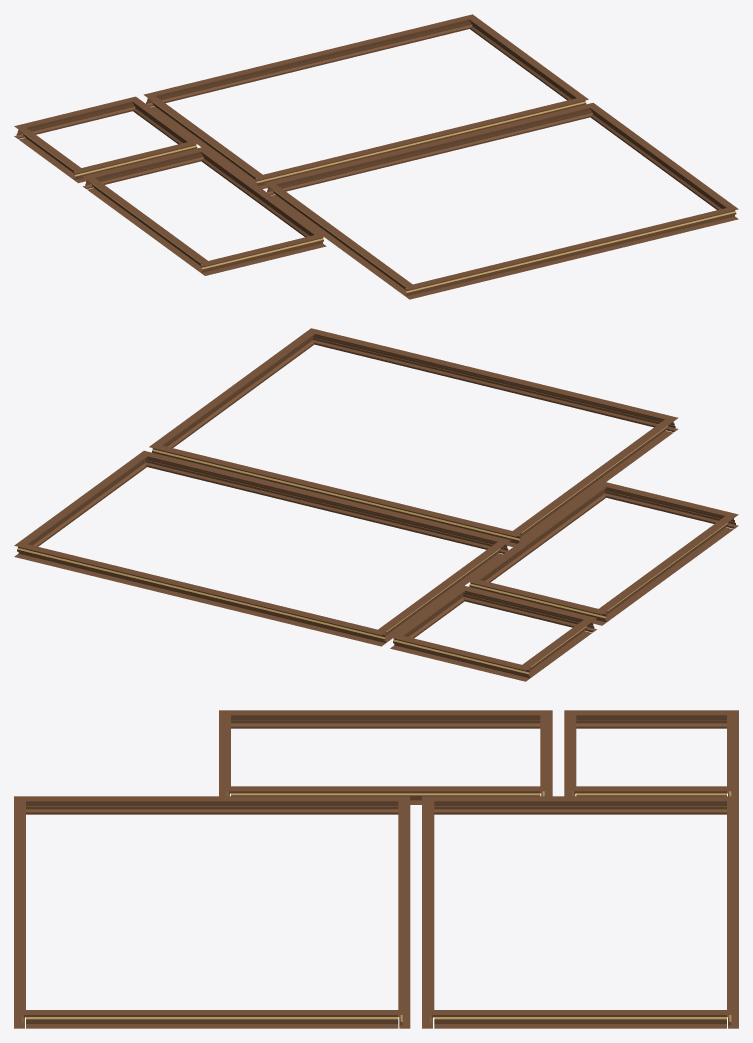
File: suite_crown_molding.glb
3 views of the same model, one above another, from view 1: azimuth 30°, elevation 25°; view 2: azimuth 150°, elevation 25°; view 3: azimuth 270°, elevation 25° (orthographic). The views are drawn at different scales.
Visible parts, largest first — view 1: SuiteCrownMolding; view 2: SuiteCrownMolding; view 3: SuiteCrownMolding.
Boxes of the visible parts, x1,y1,x2,y2 form: SuiteCrownMolding: [14, 14, 738, 299]; SuiteCrownMolding: [14, 328, 738, 681]; SuiteCrownMolding: [14, 710, 738, 1028].
Bounding box in the file's own units: 8.62 × 0.18 × 8.67.
